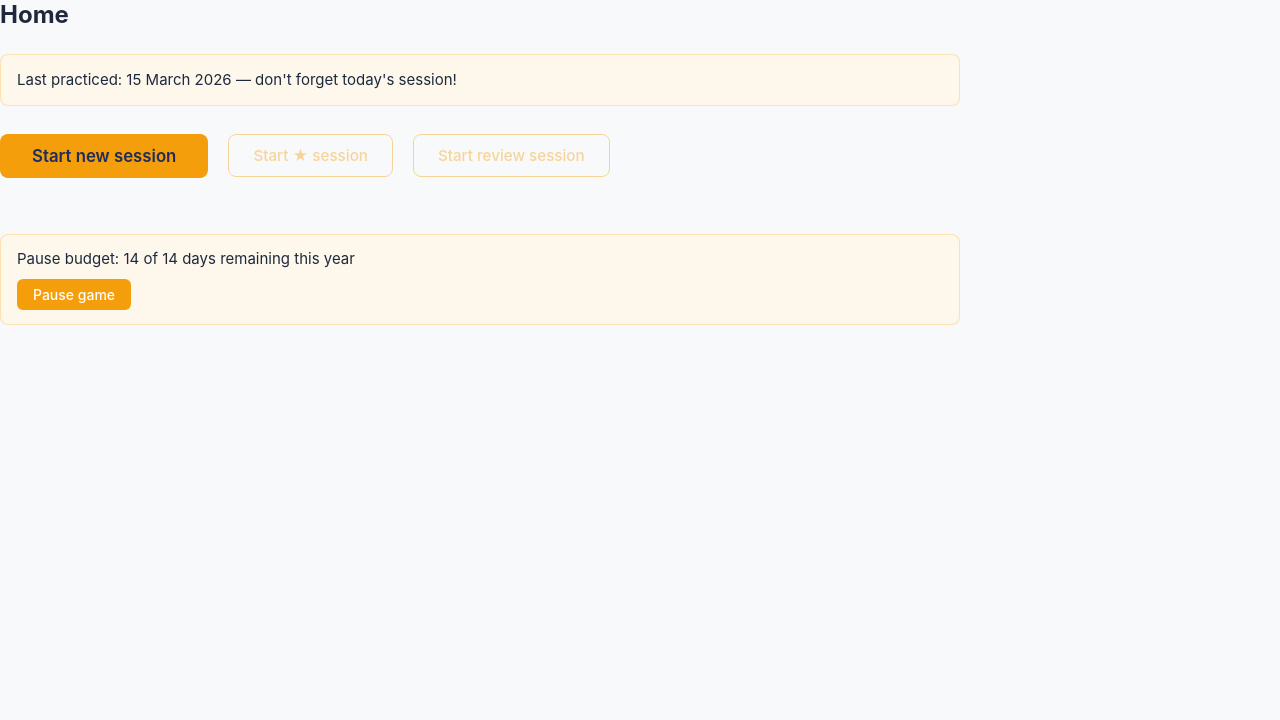
Scenario: HomeScreen — pause mode › closes the dialog when Cancel is clicked
This screenshot has width=1280, height=720.
Click the button "Pause game" at x=74, y=294, box [17,279,131,310]
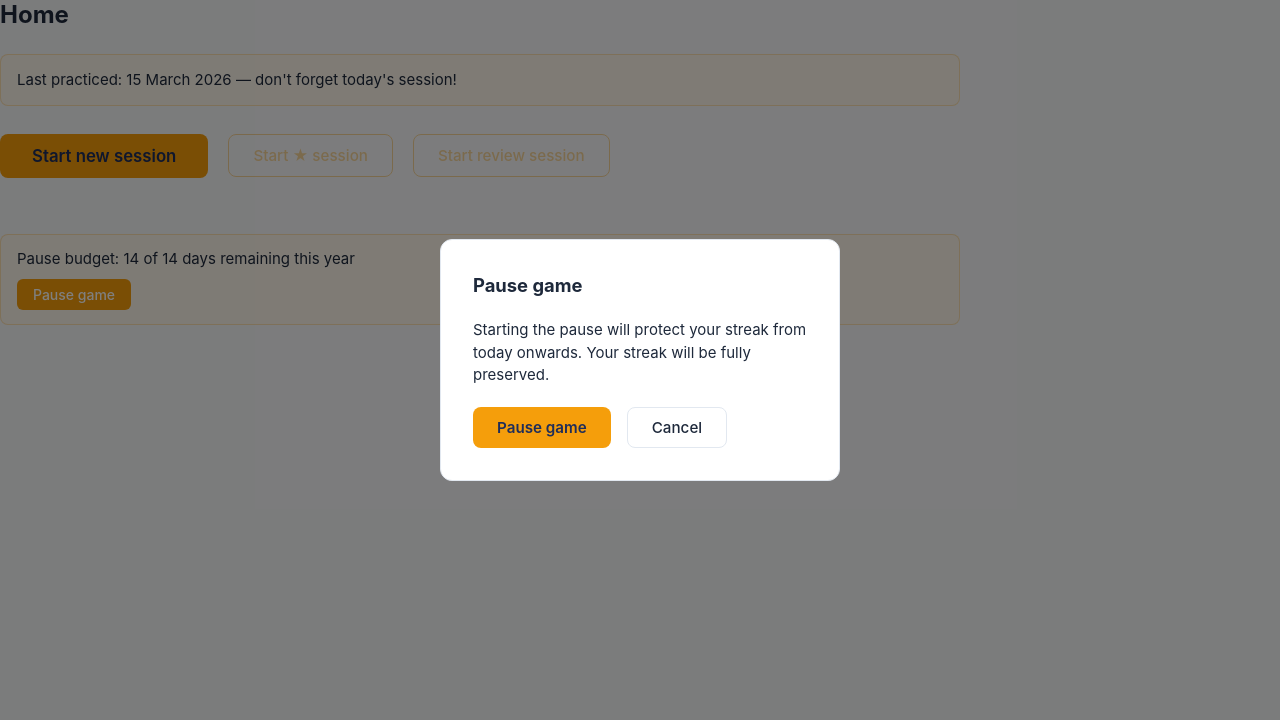
Expected: the dialog is shown, [440,238,840,481]
Click the button "Cancel" at x=677, y=428, box [627,407,727,448]
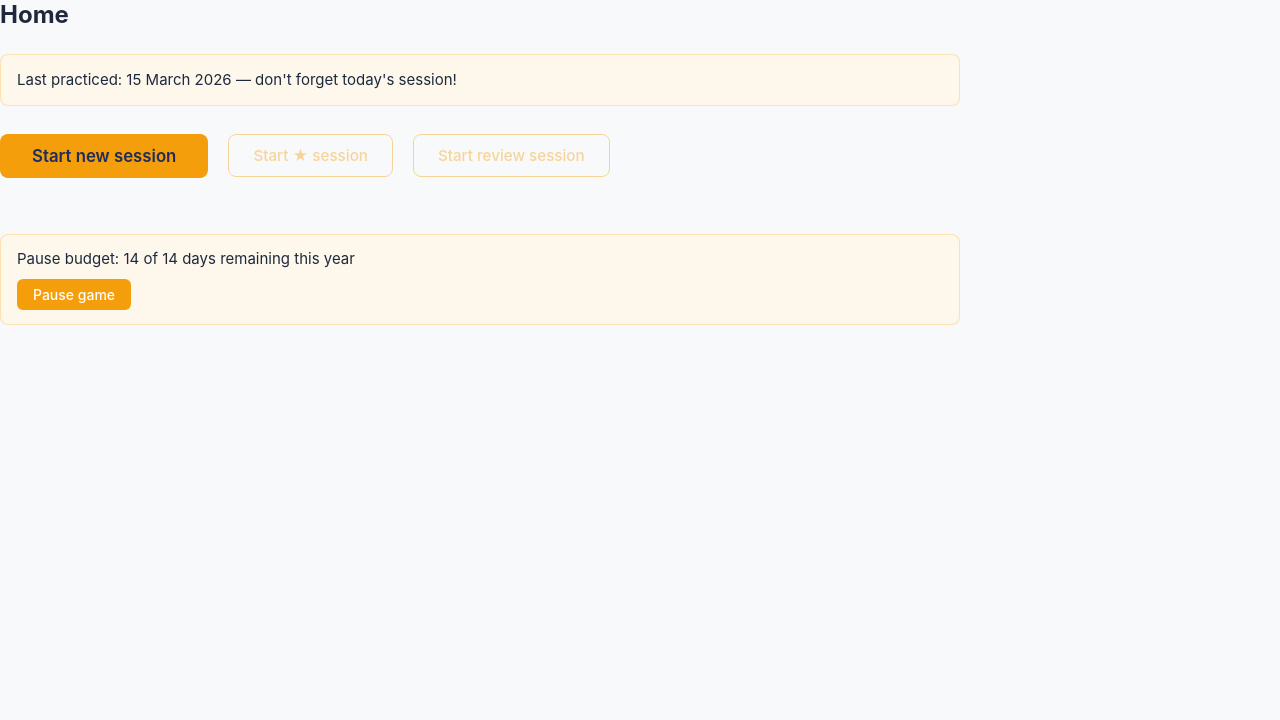
Expected: the dialog is gone
